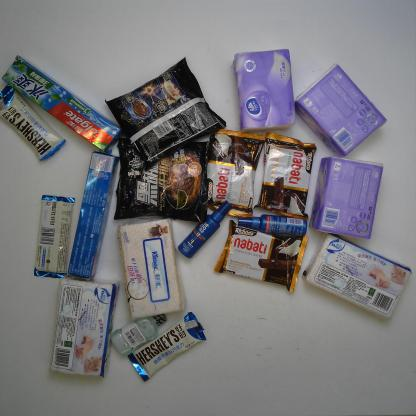Chocolate: (129, 312, 206, 382), (0, 83, 66, 161), (31, 193, 75, 278)
Dessert: (214, 219, 308, 295), (204, 126, 265, 216), (259, 132, 317, 218)
Instant Noodles: (103, 56, 228, 172), (113, 139, 212, 225)
Personal Hygiene: (0, 54, 121, 151), (69, 151, 118, 279), (177, 198, 234, 260), (109, 314, 166, 356), (237, 211, 309, 236)
Tissue: (300, 232, 412, 320), (293, 62, 388, 158), (118, 216, 184, 321), (308, 154, 385, 240), (51, 279, 116, 378), (233, 47, 297, 132)
